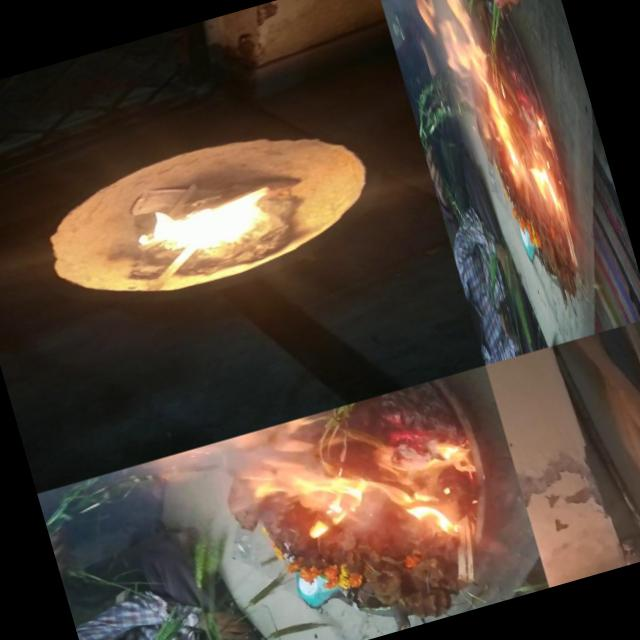fire: (212, 403, 410, 627), (77, 170, 280, 282), (467, 156, 569, 338), (193, 579, 281, 640), (476, 78, 526, 162)
smoke: (444, 0, 502, 78)
